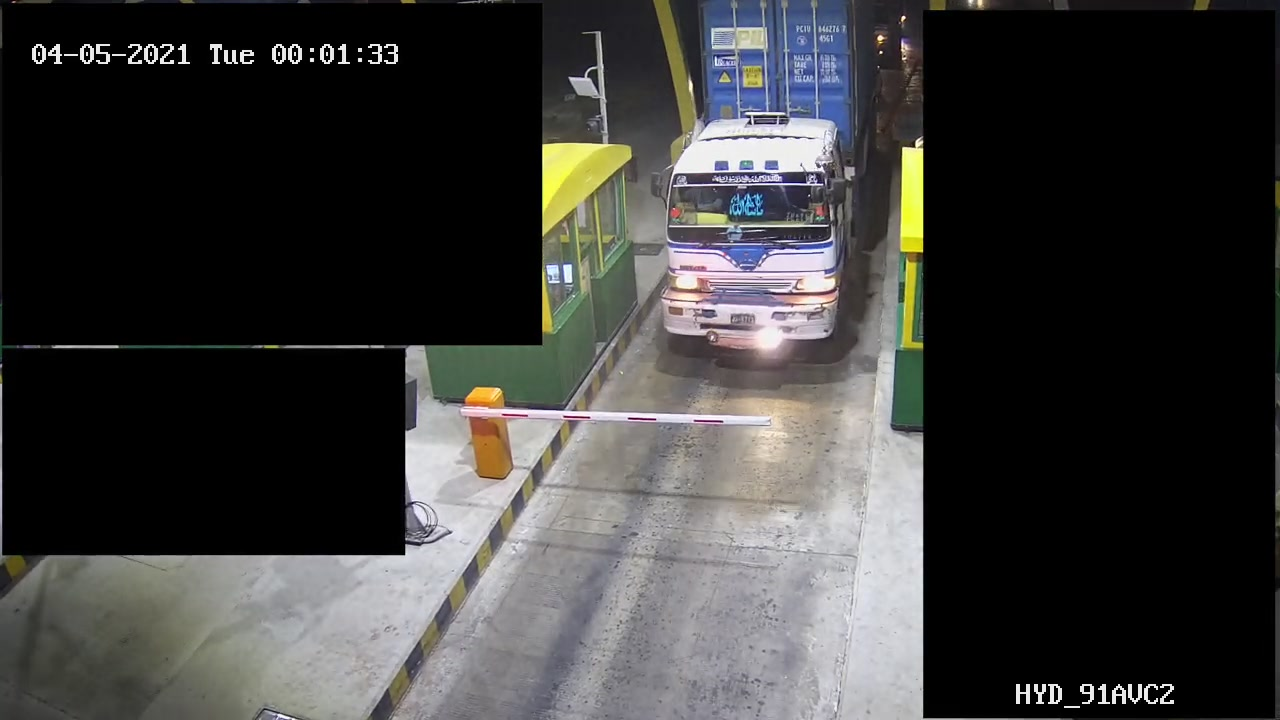F6: (653, 1, 872, 370)
